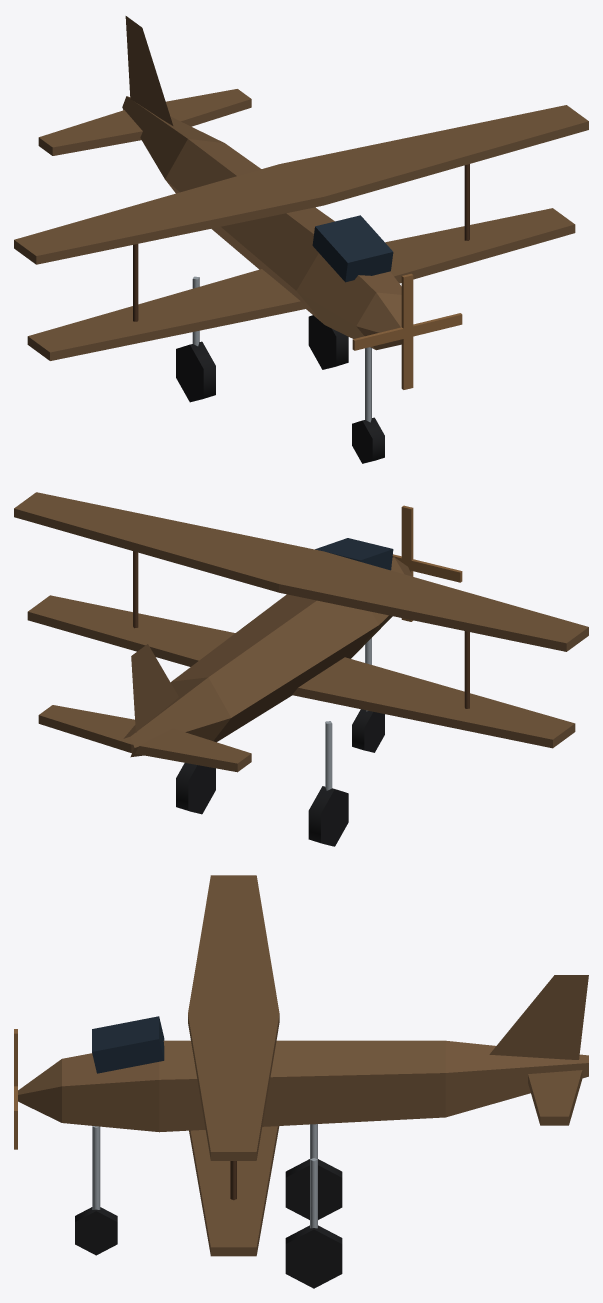
The model's file is veh_air_fighter_a05_lod1.glb.
3 views of the same model, one above another, from view 1: azimuth 30°, elevation 25°; view 2: azimuth 150°, elevation 25°; view 3: azimuth 270°, elevation 25° (orthographic). The views are drawn at different scales.
Visible parts, largest first — view 1: body, propeller_0, gear_1, gear_0, gear_2; view 2: body, gear_1, gear_2, propeller_0, gear_0; view 3: body, gear_2, gear_1, gear_0.
Boxes of the visible parts, left/top/right/bottom form: body: left=14, top=16, right=588, bottom=360; propeller_0: left=352, top=273, right=462, bottom=389; gear_1: left=176, top=276, right=215, bottom=402; gear_0: left=352, top=347, right=384, bottom=463; gear_2: left=308, top=315, right=348, bottom=369; body: left=14, top=492, right=588, bottom=772; gear_1: left=308, top=721, right=348, bottom=846; gear_2: left=176, top=763, right=215, bottom=814; propeller_0: left=392, top=505, right=462, bottom=621; gear_0: left=352, top=638, right=384, bottom=752; body: left=18, top=875, right=588, bottom=1256; gear_2: left=285, top=1158, right=342, bottom=1288; gear_1: left=285, top=1124, right=342, bottom=1219; gear_0: left=75, top=1126, right=117, bottom=1255.
Bounding box in the file's own units: 8 × 3.76 × 7.03.
